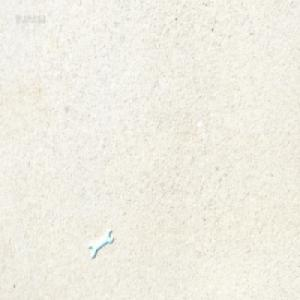Wrench: (89, 230, 114, 258)
